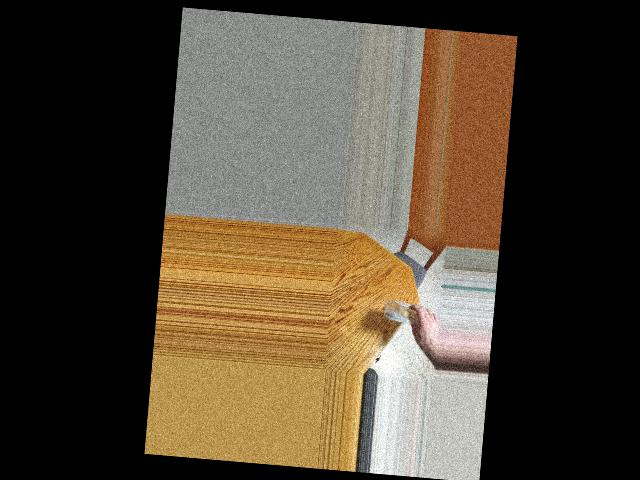cheese: (380, 291, 431, 342)
